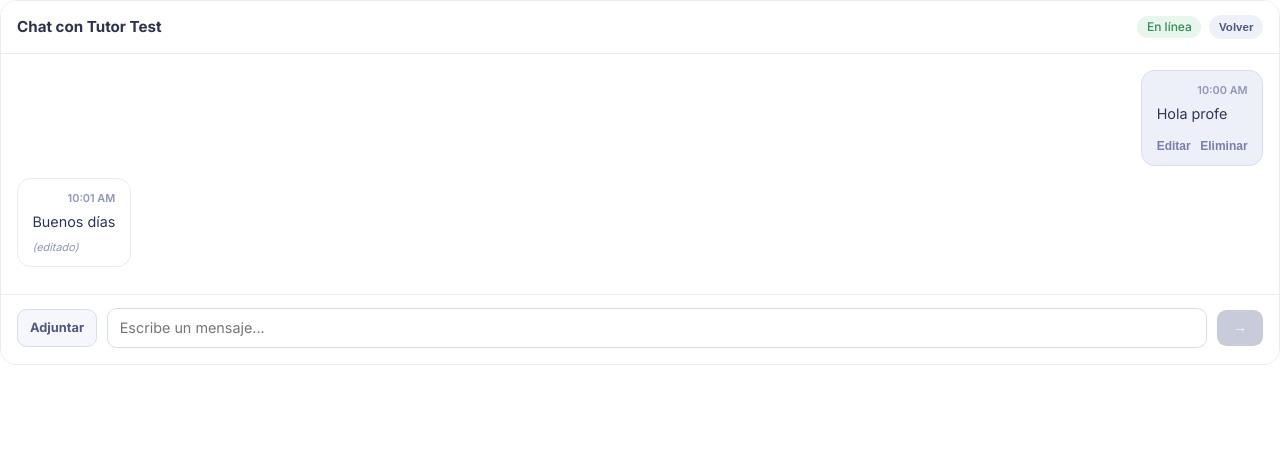
Test case: PrivateChat › shows error when edit fails
Expected: the text "Hola profe" is shown, [1157,105,1227,122]
Click the button "Editar" at (1174, 146), box [1157,139,1191,153]
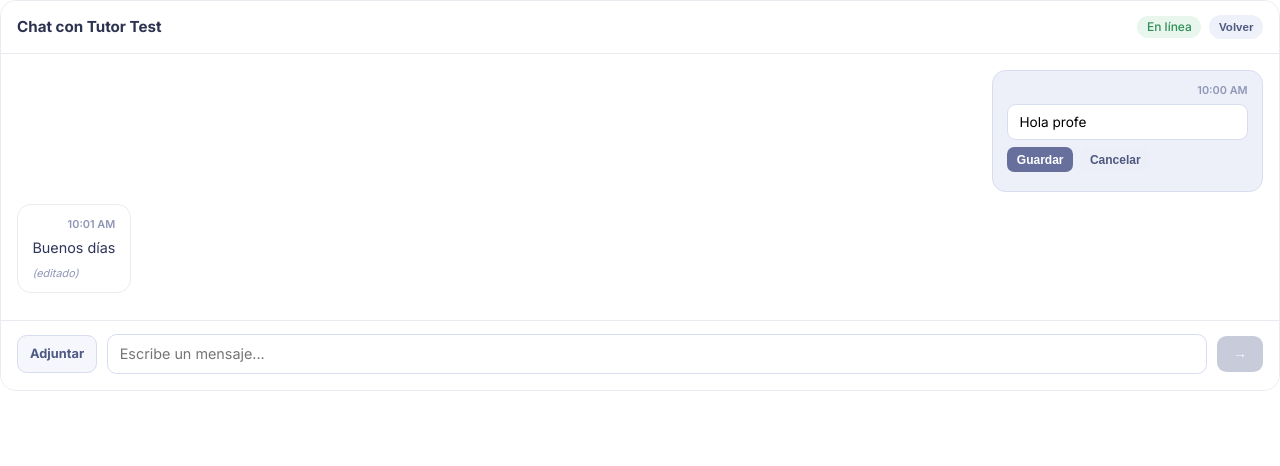
Replace the text in the field showing "Hola profe" with "x" at (1127, 122), box [1007,104,1248,140]
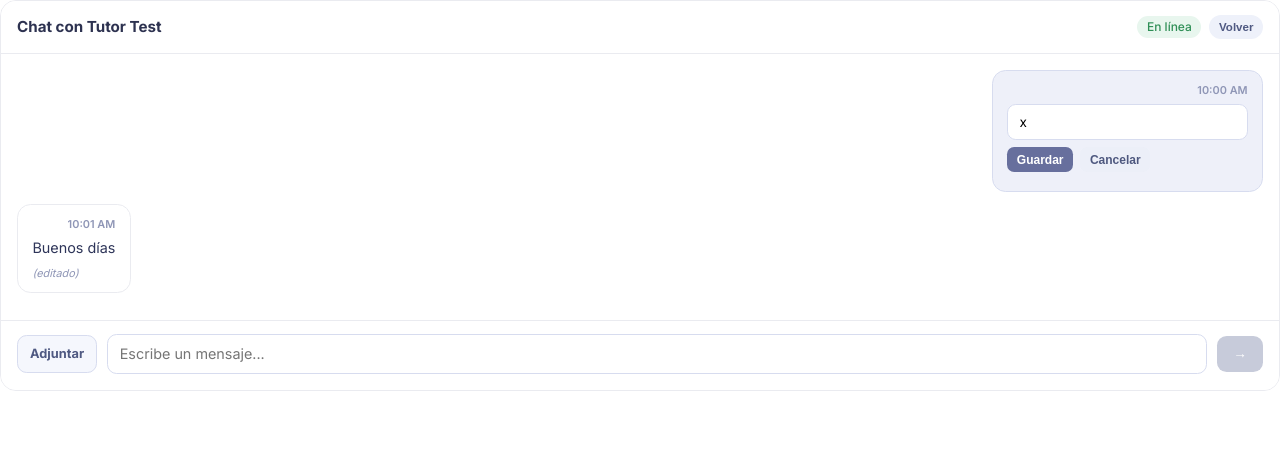
Click the button "Guardar" at (1040, 160), box [1007,147,1073,172]
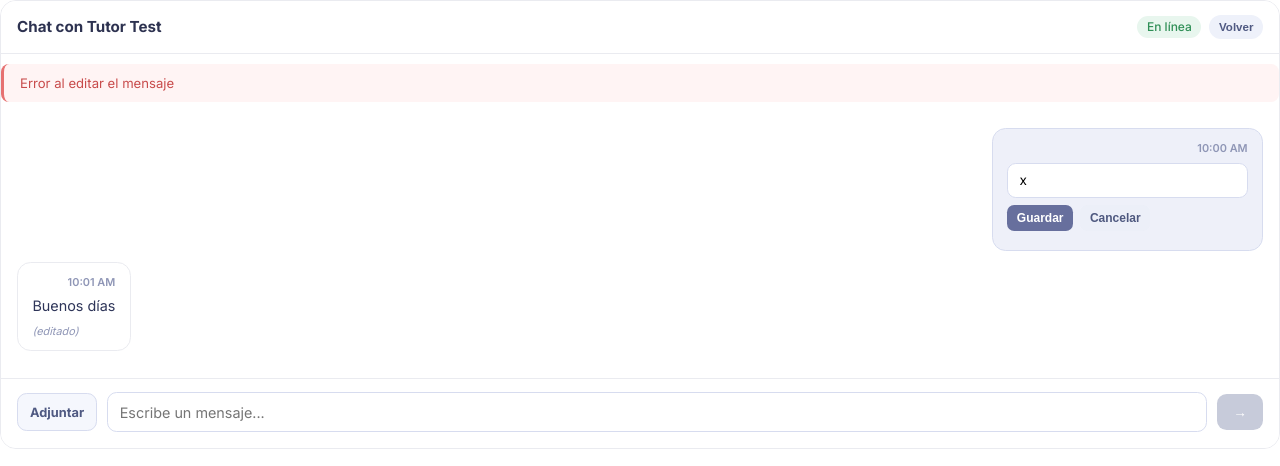
Result: the text "Error al editar el mensaje" is shown at [1,64,1279,102]
